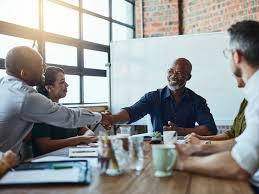Persons: (158, 54, 198, 94)
